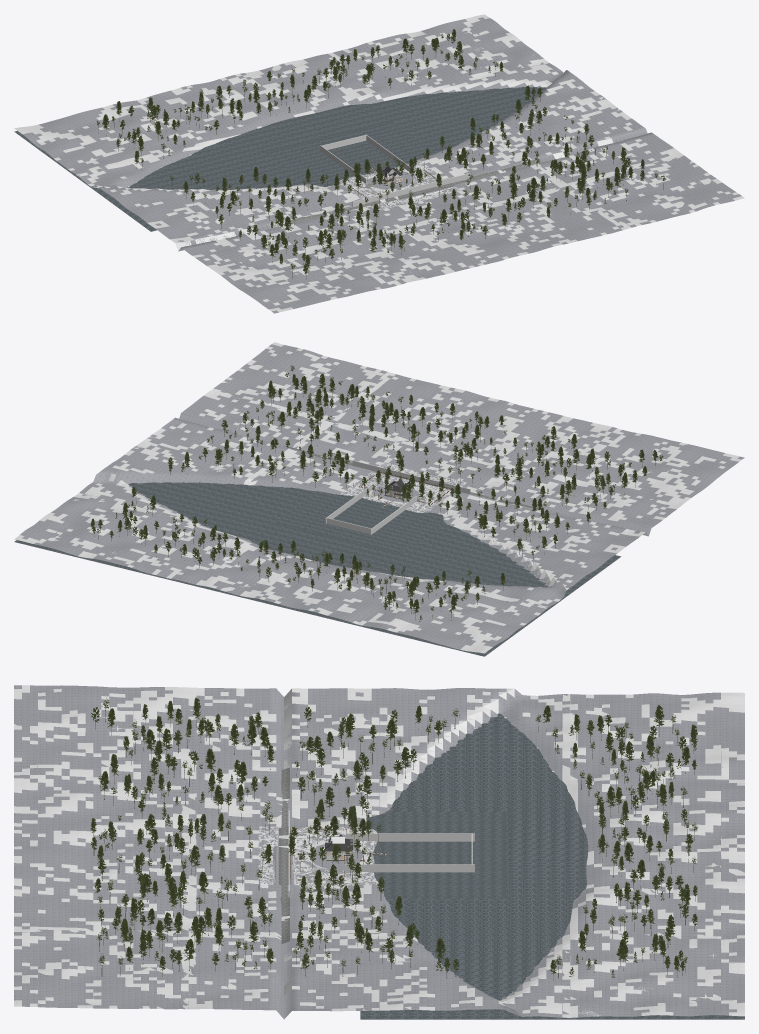
The model's file is exterior.glb.
3 renders of one model, top to bottom at view 1: azimuth 30°, elevation 25°; view 2: azimuth 150°, elevation 25°; view 3: azimuth 270°, elevation 25°, orthographic. The views are drawn at different scales.
Parts seen in each view (by area): view 1: exterior_static, COL_static, forest; view 2: exterior_static, COL_static, forest; view 3: exterior_static, COL_static, forest.
Part boxes in pixels (bbox=[...]): exterior_static: bbox=[14, 17, 741, 313]; COL_static: bbox=[14, 14, 744, 312]; forest: bbox=[96, 29, 666, 278]; exterior_static: bbox=[14, 344, 744, 656]; COL_static: bbox=[14, 342, 741, 653]; forest: bbox=[90, 365, 663, 621]; exterior_static: bbox=[14, 685, 744, 1019]; COL_static: bbox=[14, 685, 744, 1017]; forest: bbox=[90, 697, 697, 980].
Size of the model in its own units: 480 by 31.5 by 460.
33 materials, 20 textured.
